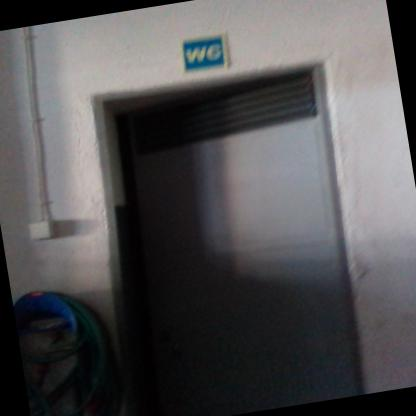semi: (61, 35, 393, 415)
